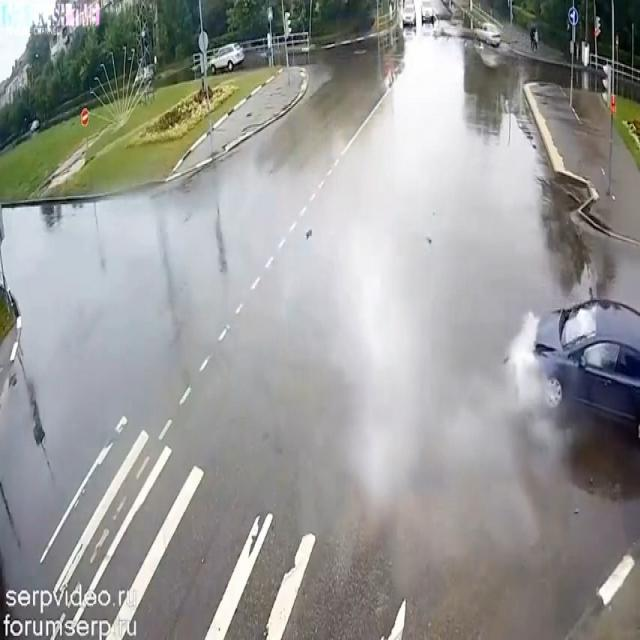Accident: (491, 245, 640, 509)
